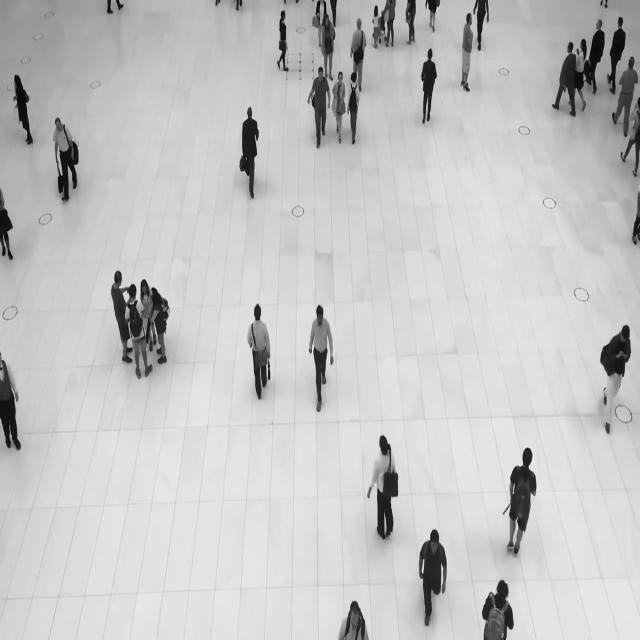Persona: (592, 317, 634, 443), (504, 433, 540, 566), (365, 424, 401, 547), (243, 297, 279, 405), (306, 300, 338, 417), (416, 523, 450, 630), (0, 342, 26, 461), (51, 108, 81, 208), (237, 98, 264, 204), (479, 571, 517, 640), (106, 265, 129, 370), (127, 283, 151, 383), (7, 69, 37, 148), (332, 592, 377, 640), (149, 273, 170, 371), (309, 61, 331, 154), (552, 36, 575, 124), (418, 41, 440, 131), (615, 54, 638, 136), (459, 8, 476, 96), (608, 13, 625, 95), (331, 66, 347, 152), (347, 70, 364, 150), (590, 14, 606, 94), (274, 7, 292, 76), (350, 16, 368, 81), (576, 31, 588, 125), (319, 15, 339, 69), (370, 1, 381, 52)
